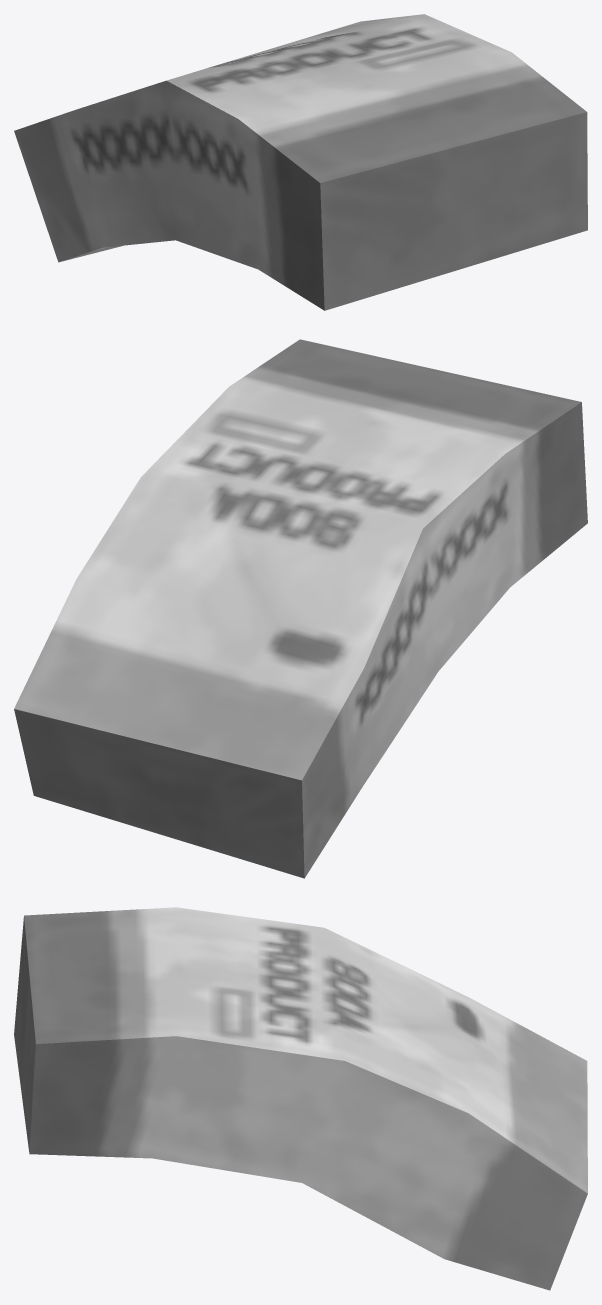
The model's file is Pfb_Bags__6.fbx.
The picture shows the model from 3 angles, top to bottom: view 1: azimuth 30°, elevation 25°; view 2: azimuth 150°, elevation 25°; view 3: azimuth 270°, elevation 25°; orthographic projection. The views are drawn at different scales.
Parts seen in each view (by area): view 1: Mat_Bags_01_5; view 2: Mat_Bags_01_5; view 3: Mat_Bags_01_5.
Part boxes in pixels (<box>): Mat_Bags_01_5: <box>14,14,587,310</box>; Mat_Bags_01_5: <box>14,339,587,878</box>; Mat_Bags_01_5: <box>14,907,587,1290</box>.
Bounding box in the file's own units: 0.5088 × 0.4808 × 0.911.
Materials: 1 (1 with a texture image).
